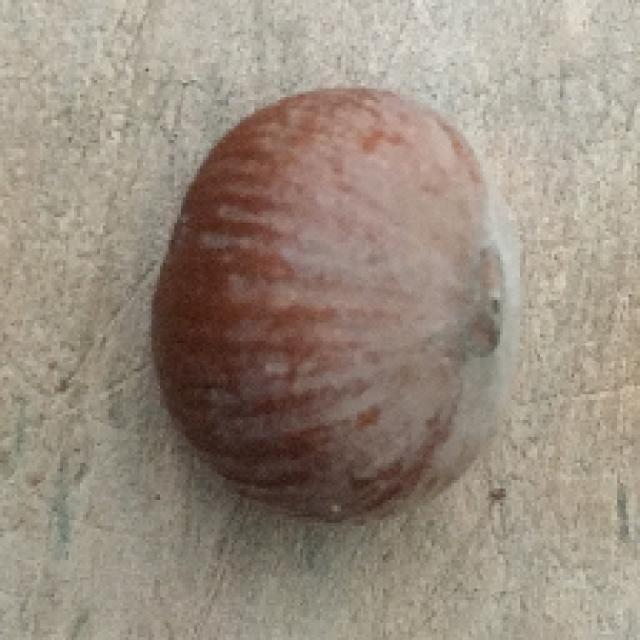qualityHazelnut: (147, 86, 526, 524)
